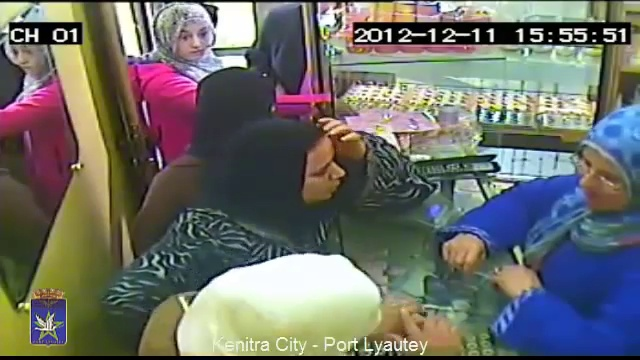face: (577, 158, 635, 214), (301, 144, 346, 204), (174, 21, 212, 58), (4, 45, 47, 71)
